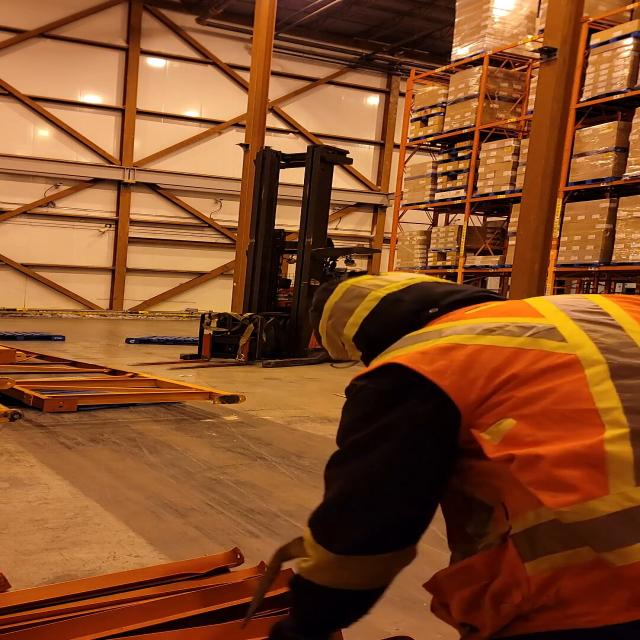forklift: (174, 152, 383, 372)
human: (265, 273, 640, 600)
objectofinterest: (0, 344, 247, 421), (118, 332, 208, 348), (0, 327, 72, 343)
